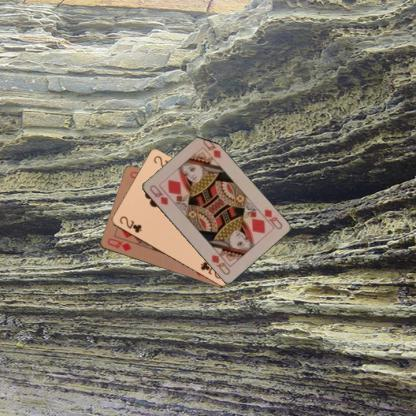2c: (116, 214, 142, 234)
Qd: (256, 206, 284, 230), (147, 182, 169, 207), (105, 236, 132, 252)
